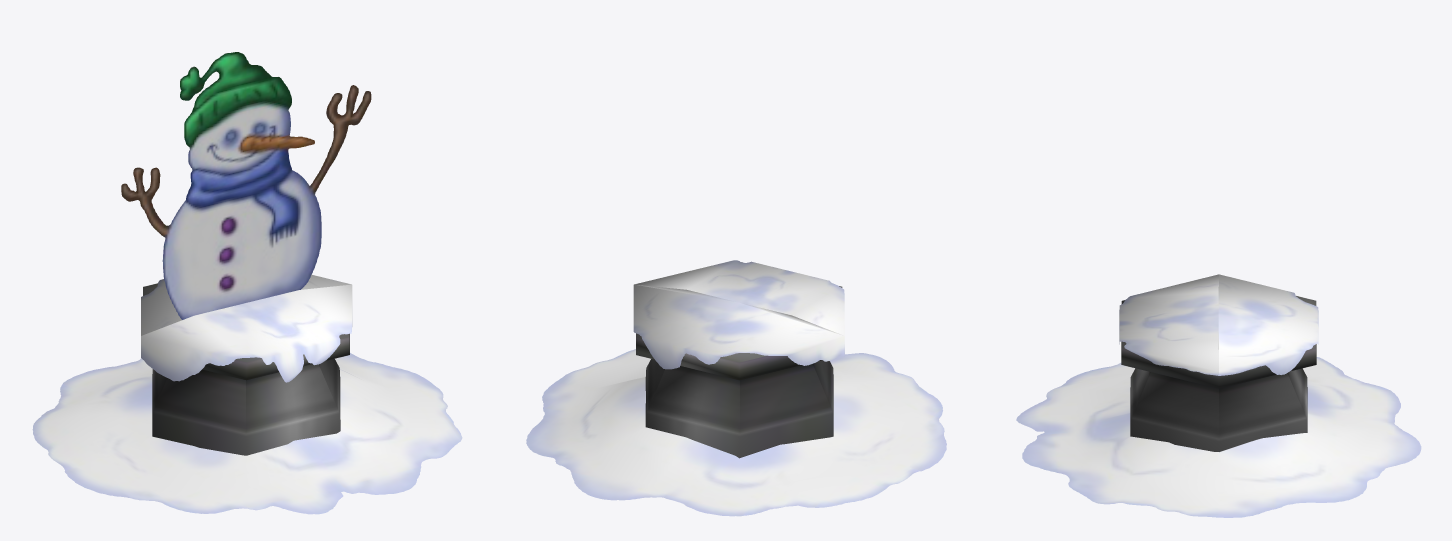
The model's file is snowman.glb.
3 views of the same model, side by side, from view 1: azimuth 30°, elevation 25°; view 2: azimuth 150°, elevation 25°; view 3: azimuth 270°, elevation 25° (orthographic). The views are drawn at different scales.
Visible parts, largest first — view 1: snowpile, snowman__billboard, base, snowTop; view 2: snowpile, snowTop, base; view 3: snowpile, snowTop, base.
Boxes of the visible parts, left/top/right/bottom form: snowpile: left=32, top=353, right=462, bottom=514; snowman__billboard: left=121, top=52, right=371, bottom=319; base: left=143, top=283, right=349, bottom=455; snowTop: left=141, top=274, right=352, bottom=382; snowpile: left=526, top=349, right=946, bottom=516; snowTop: left=633, top=260, right=844, bottom=369; base: left=636, top=262, right=842, bottom=458; snowpile: left=1016, top=357, right=1421, bottom=517; snowTop: left=1119, top=274, right=1318, bottom=375; base: left=1121, top=296, right=1316, bottom=451.
Size of the model in its own units: 6.6 by 6.02 by 6.6.
Materials: 3 (3 with a texture image).
